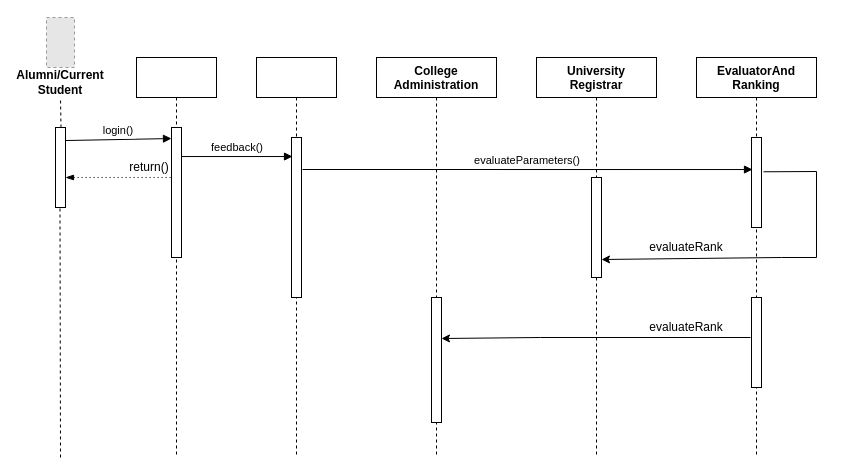
The diagram is 842 pixels wide and 476 high, and some of its shapes have lost their labels. Grey dashed boxes stand in for pictures. Here are the shapes that lost their labels. From the top down, the box of each, then its label:
(136, 56, 216, 458): Directory
(256, 56, 336, 458): Feedback Form
